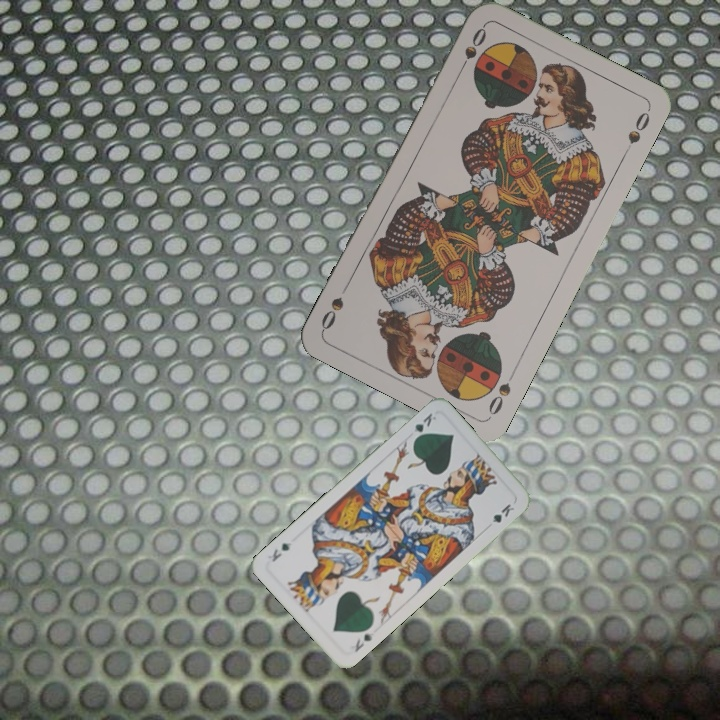GK: (408, 409, 439, 444), (350, 628, 377, 655)
SO: (454, 22, 489, 77), (484, 365, 519, 418)
